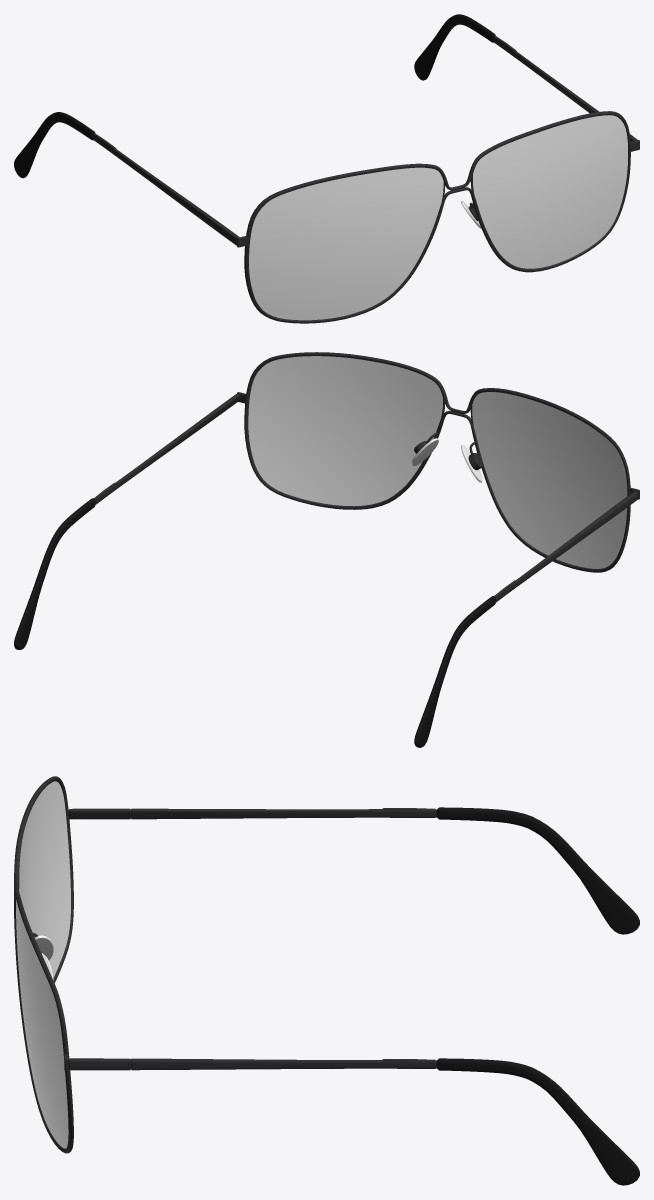
Rendered from dubaiGlasses.glb.
The picture shows the model from 3 angles, top to bottom: view 1: azimuth 30°, elevation 25°; view 2: azimuth 150°, elevation 25°; view 3: azimuth 270°, elevation 25°; orthographic projection. The views are drawn at different scales.
Visible parts, largest first — view 1: dubaiGlasses; view 2: dubaiGlasses; view 3: dubaiGlasses.
Part boxes in pixels (x1,y1,x2,y2): dubaiGlasses: (14,14,639,323); dubaiGlasses: (14,352,639,747); dubaiGlasses: (14,776,639,1185).
Size of the model in its own units: 0.2215 by 0.0792 by 0.2309.
Materials: 1 (1 with a texture image).
